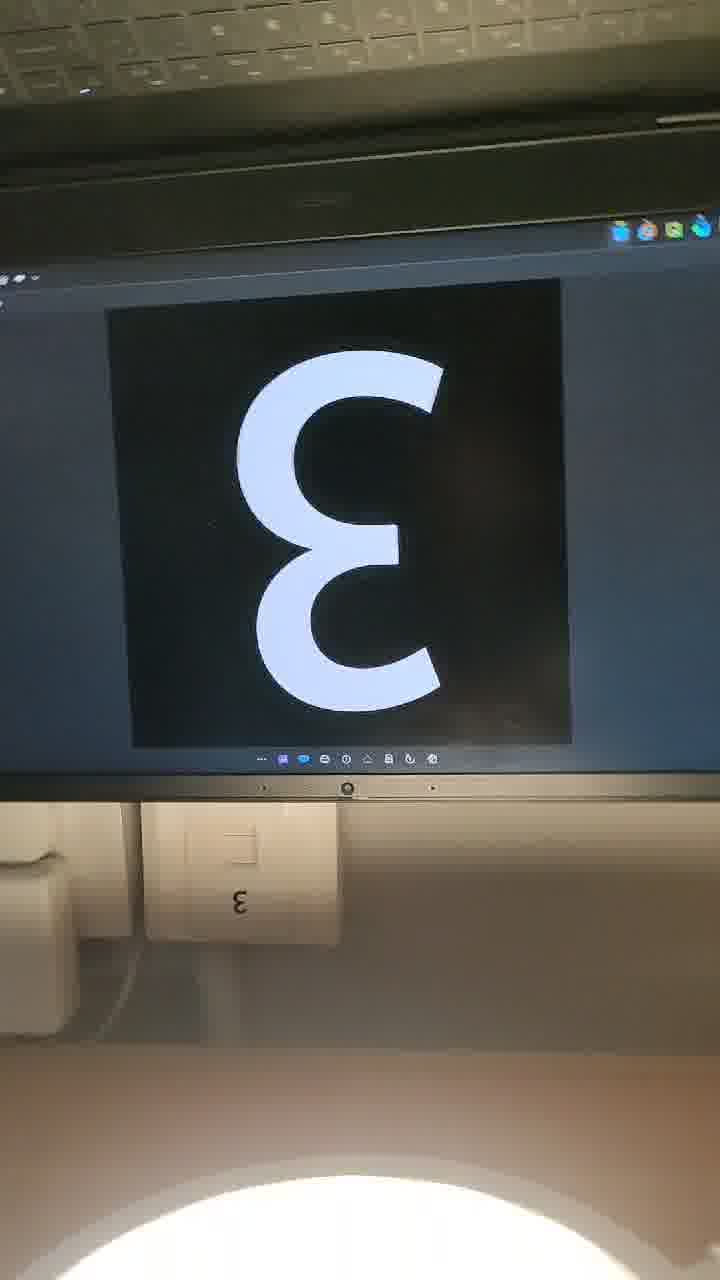three: (175, 294, 529, 805)
